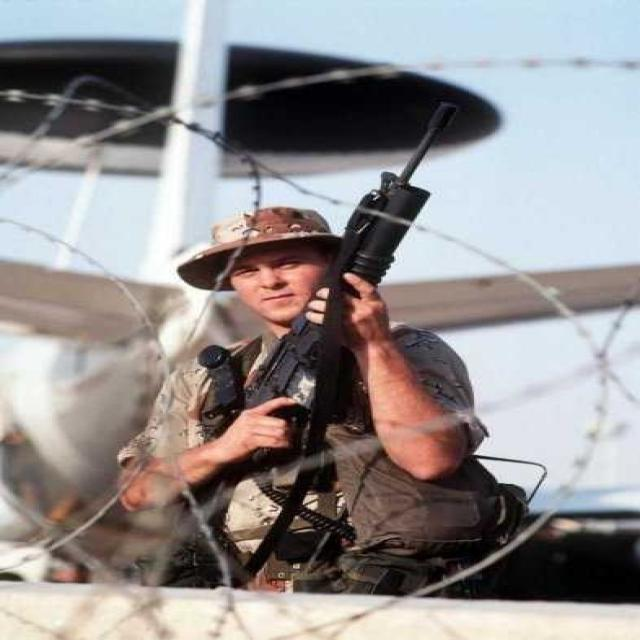Rifle: (243, 78, 463, 471)
